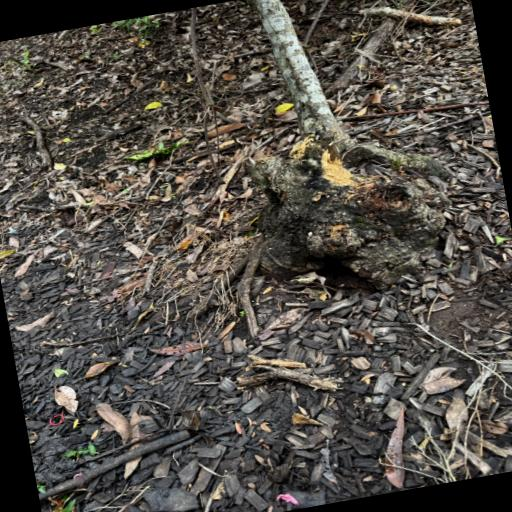tree root: (244, 0, 446, 286)
